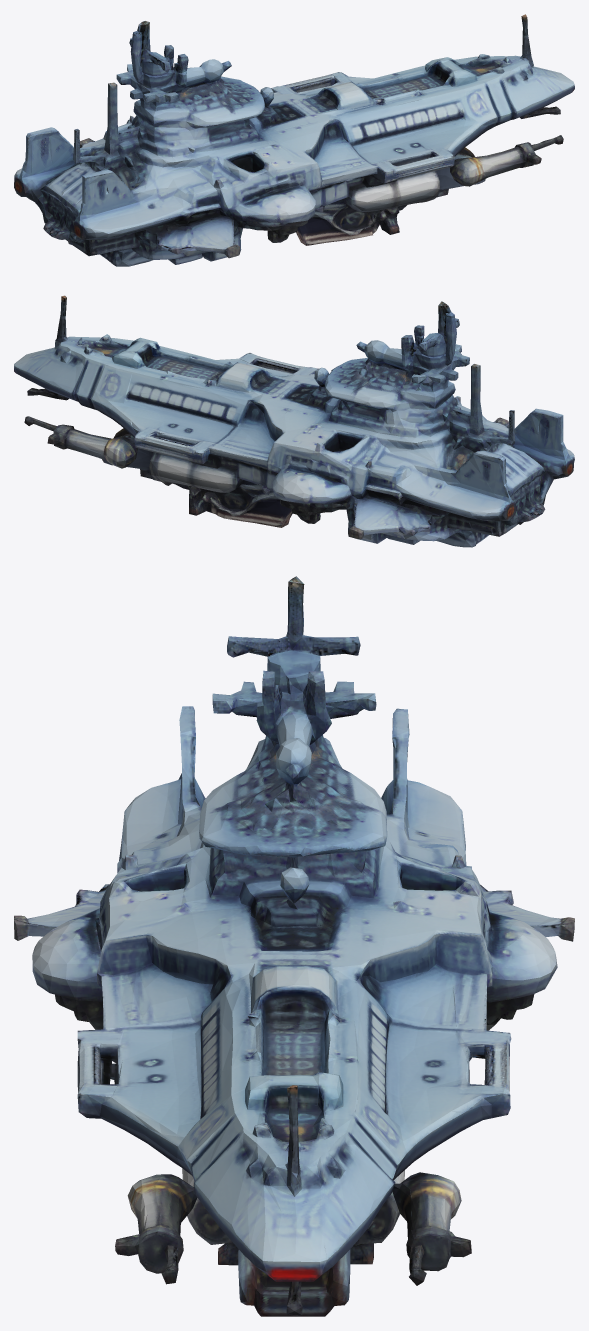
Rendered from Alpine Cruiser.glb.
3 views of the same model, one above another, from view 1: azimuth 30°, elevation 25°; view 2: azimuth 150°, elevation 25°; view 3: azimuth 270°, elevation 25° (orthographic). The views are drawn at different scales.
Parts seen in each view (by area): view 1: world; view 2: world; view 3: world.
Part boxes in pixels (x1,y1,x2,y2): world: (14,14,574,266); world: (14,295,574,547); world: (14,576,574,1316).
Bounding box in the file's own units: 1 × 0.4664 × 0.5002.
1 material, 1 textured.
